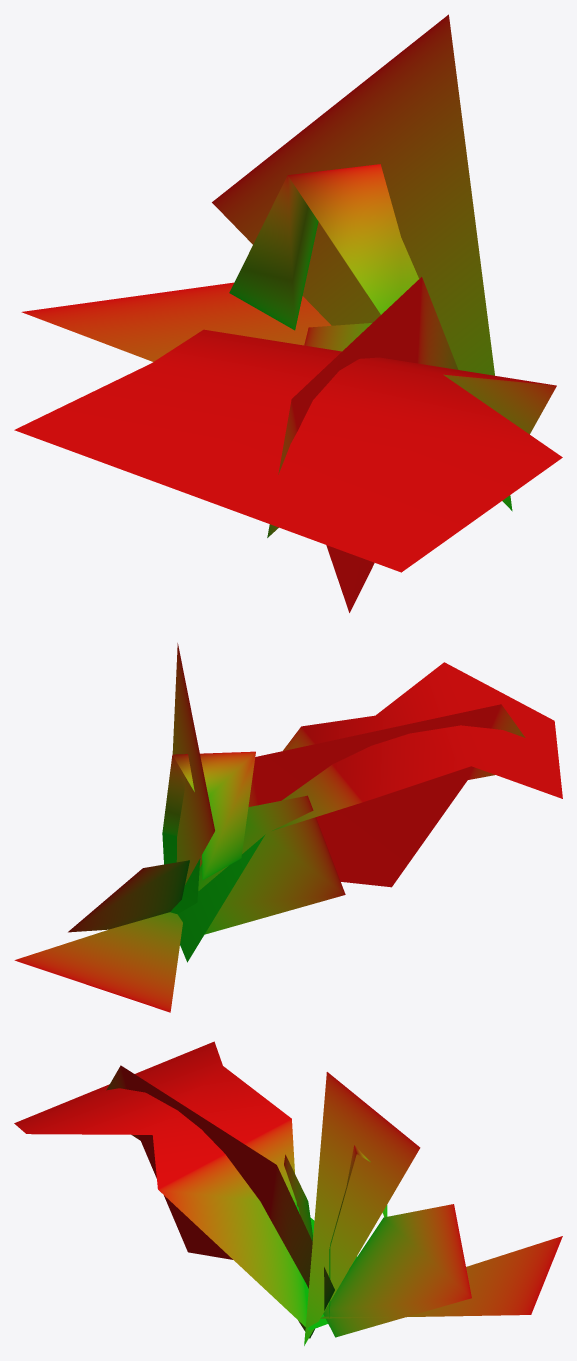
The model's file is scvhd_Var4_LOD0.fbx.
3 renders of one model, top to bottom at view 1: azimuth 30°, elevation 25°; view 2: azimuth 150°, elevation 25°; view 3: azimuth 270°, elevation 25°, orthographic. The views are drawn at different scales.
Visible parts, largest first — view 1: _fee4_Var4_LOD0; view 2: _fee4_Var4_LOD0; view 3: _fee4_Var4_LOD0.
Part boxes in pixels (x1=…): _fee4_Var4_LOD0: x1=14, y1=14, x2=562, y2=612; _fee4_Var4_LOD0: x1=14, y1=643, x2=562, y2=1012; _fee4_Var4_LOD0: x1=14, y1=1041, x2=562, y2=1345.
Bounding box in the file's own units: 22.6 × 17.57 × 32.13.
